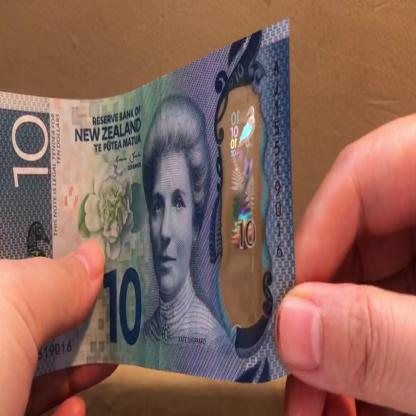10B: (226, 99, 260, 302)
